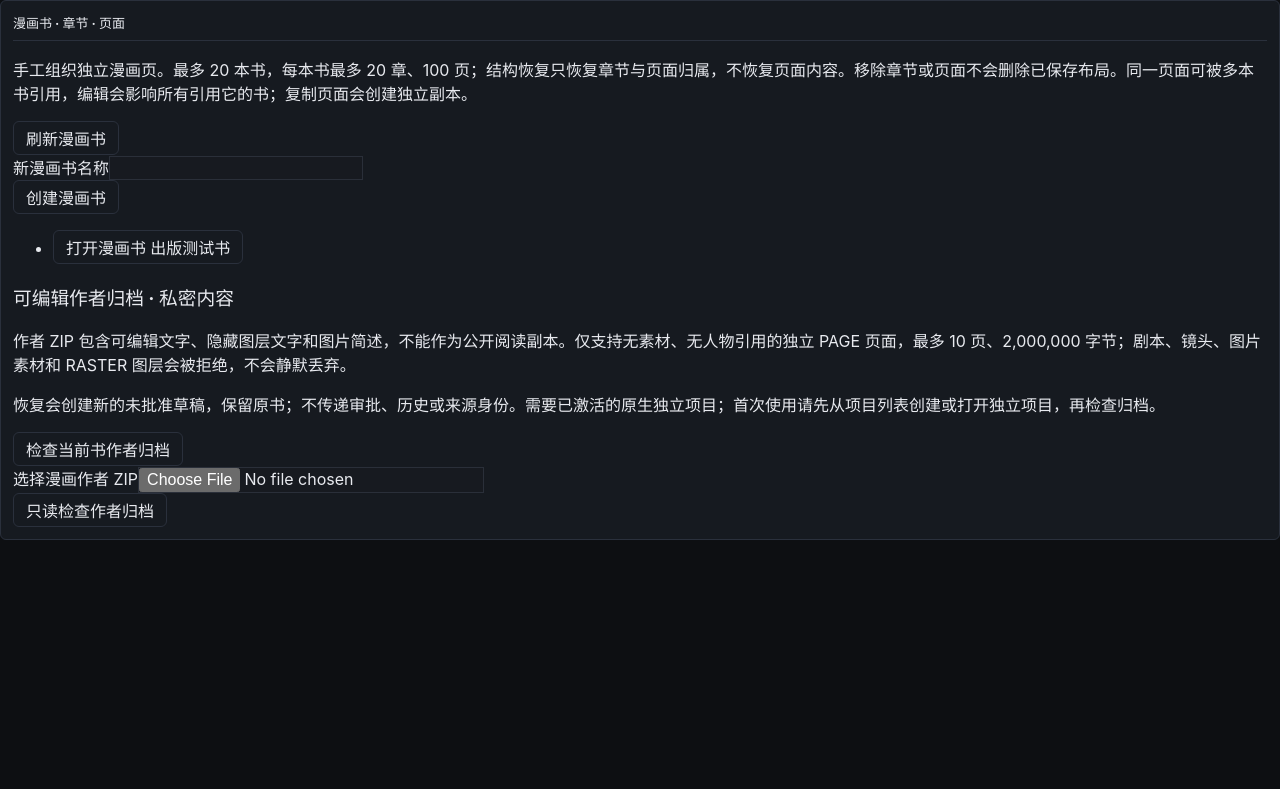
Test case: mounts below the original tree, makes no implicit posts, and requires an explicit direction and saved-order review
Click the button "打开漫画书 出版测试书" at (148, 247), box [53, 230, 243, 264]
(page scrolled)
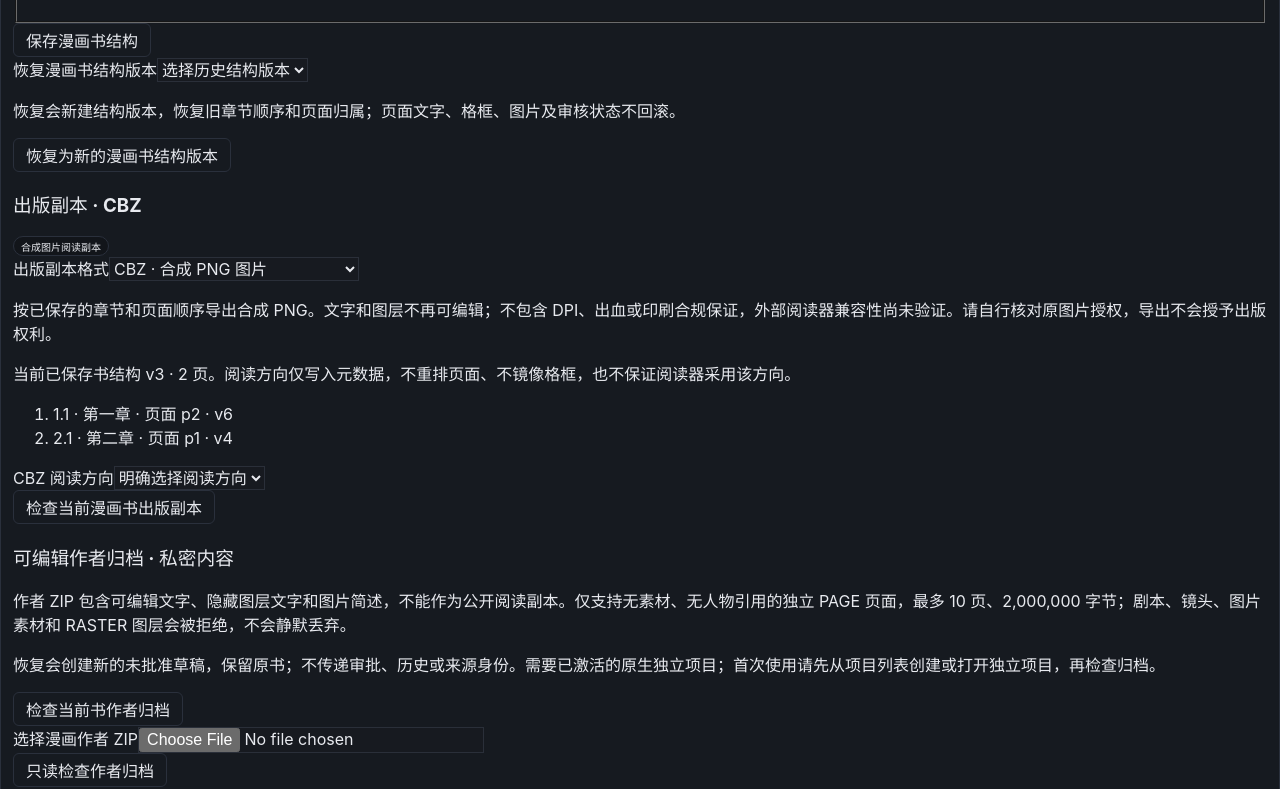
Expected: the element named "漫画书 CBZ 导出" is shown, [13, 190, 1267, 524]
Expected: the button "检查当前漫画书出版副本" is disabled, [13, 490, 215, 524]
Expected: the list items read "1.1 · 第一章 · 页面 p2 · v6", "2.1 · 第二章 · 页面 p1 · v4", in this order, [53, 404, 233, 424]; [53, 428, 233, 448]
Select "从右到左（RTL）" in the dropdown labelled "CBZ 阅读方向" at (189, 478), box [114, 466, 265, 490]
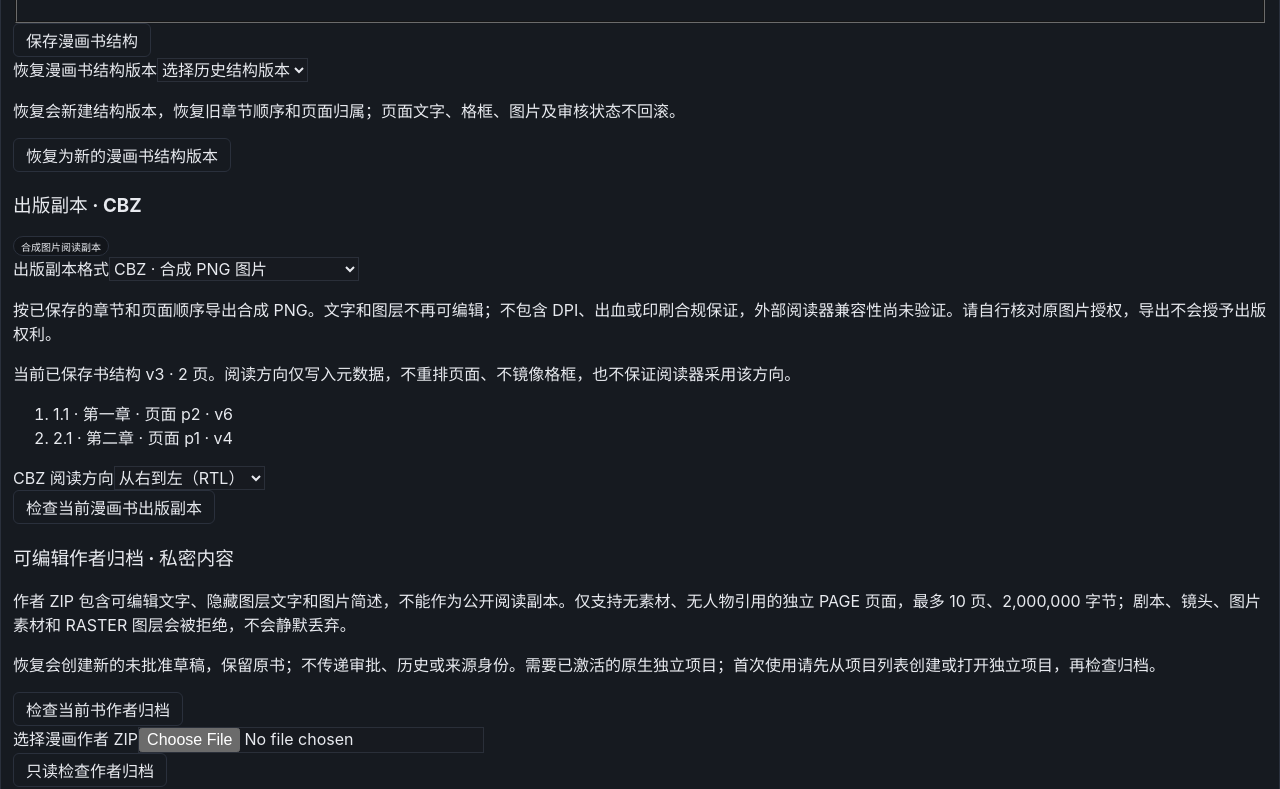
Click the button "检查当前漫画书出版副本" at (114, 507), box [13, 490, 215, 524]
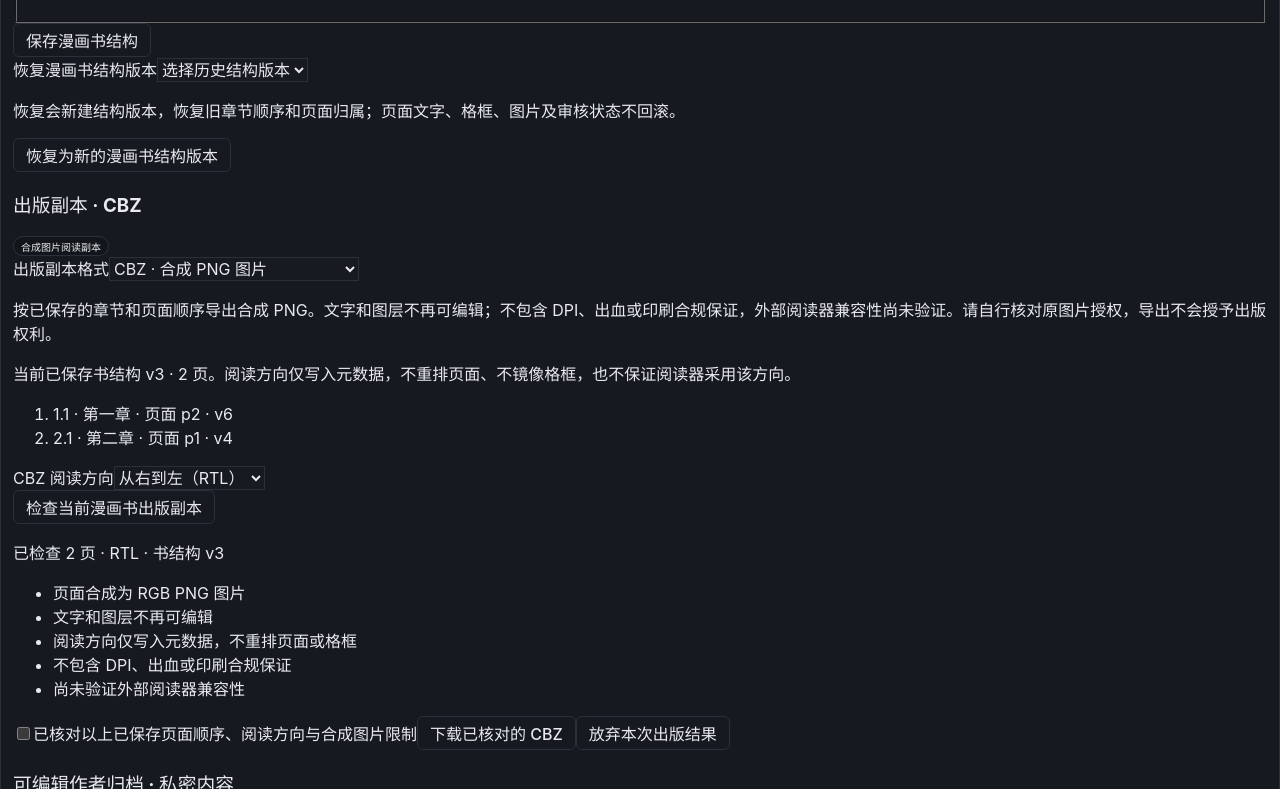
Expected: the text "已检查 2 页 · RTL · 书结构 v3" is shown, [13, 543, 224, 563]
Expected: the button "下载已核对的 CBZ" is disabled, [417, 716, 576, 750]
Click the checkbox labelled "已核对以上已保存页面顺序、阅读方向与合成图片限制" at (24, 734), box [17, 727, 30, 740]
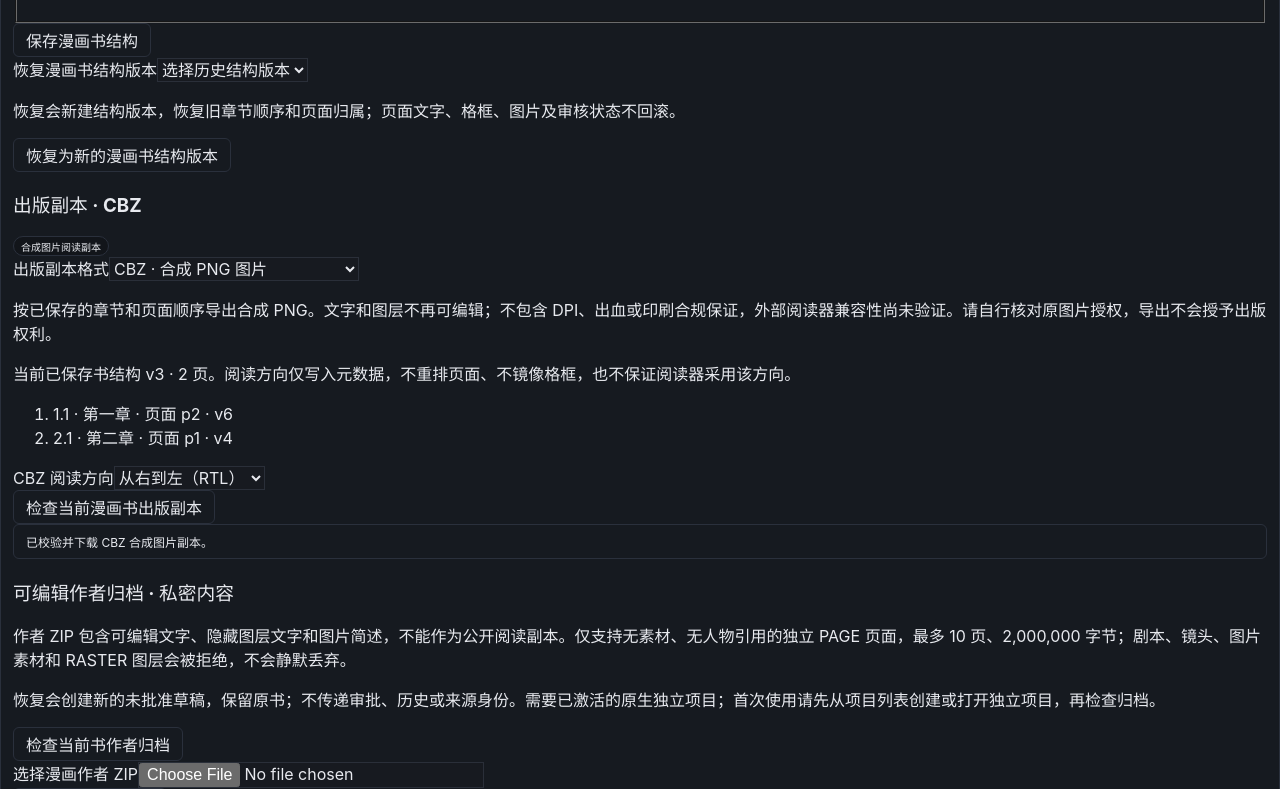
Expected: the text "已校验并下载 CBZ 合成图片副本。" is shown, [13, 524, 1267, 559]
